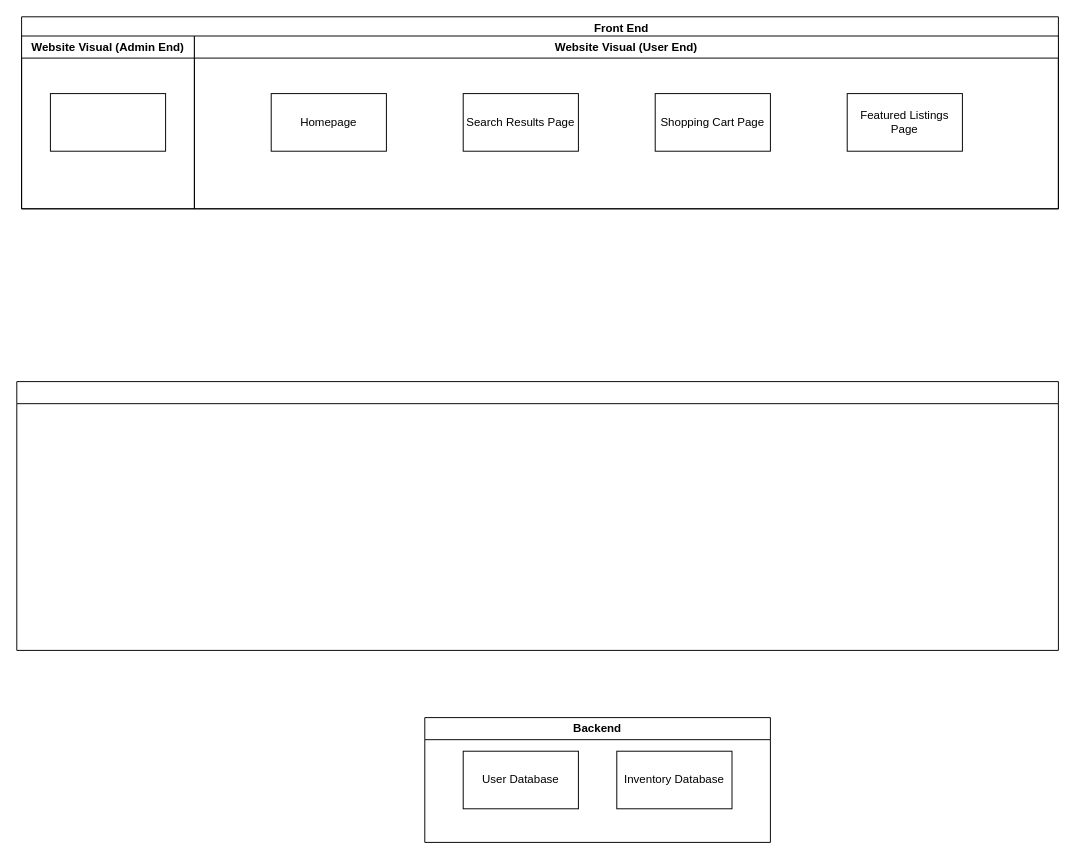
Image size: 1075x859. Some labels were removed from this diagram. The shapes that lost their labels are listed below. From the top down, each one's centre as x and y in pixels, then its label:
(x=107, y=122): Admin Control Page
(x=537, y=515): Business Layer
